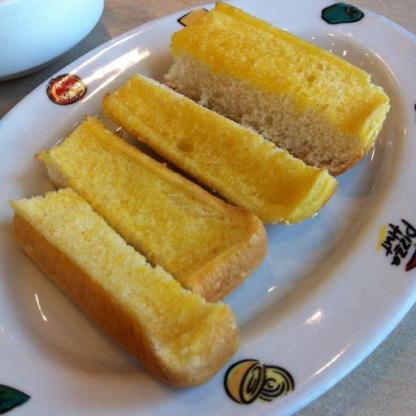toast bread: (41, 116, 269, 306), (12, 194, 237, 376), (170, 6, 381, 181), (106, 72, 333, 230)
